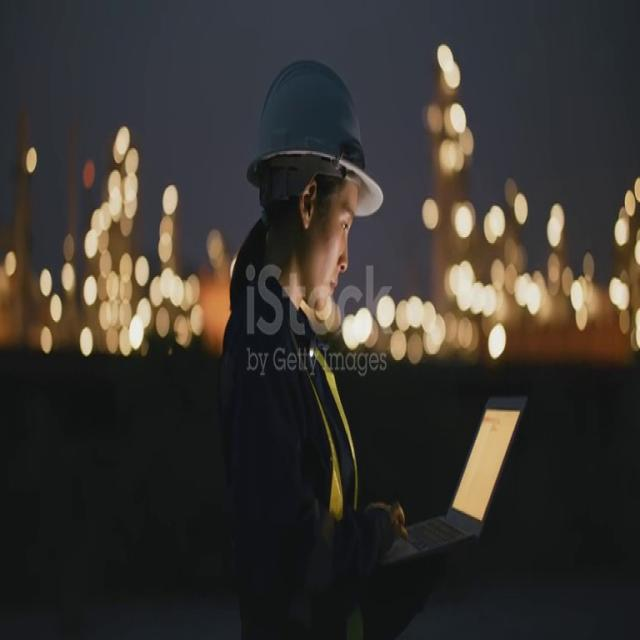capacete: (246, 48, 386, 250)
